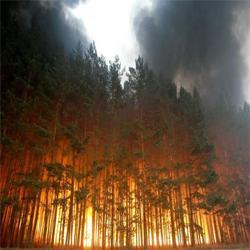fire: (132, 231, 209, 246), (84, 208, 94, 244)
